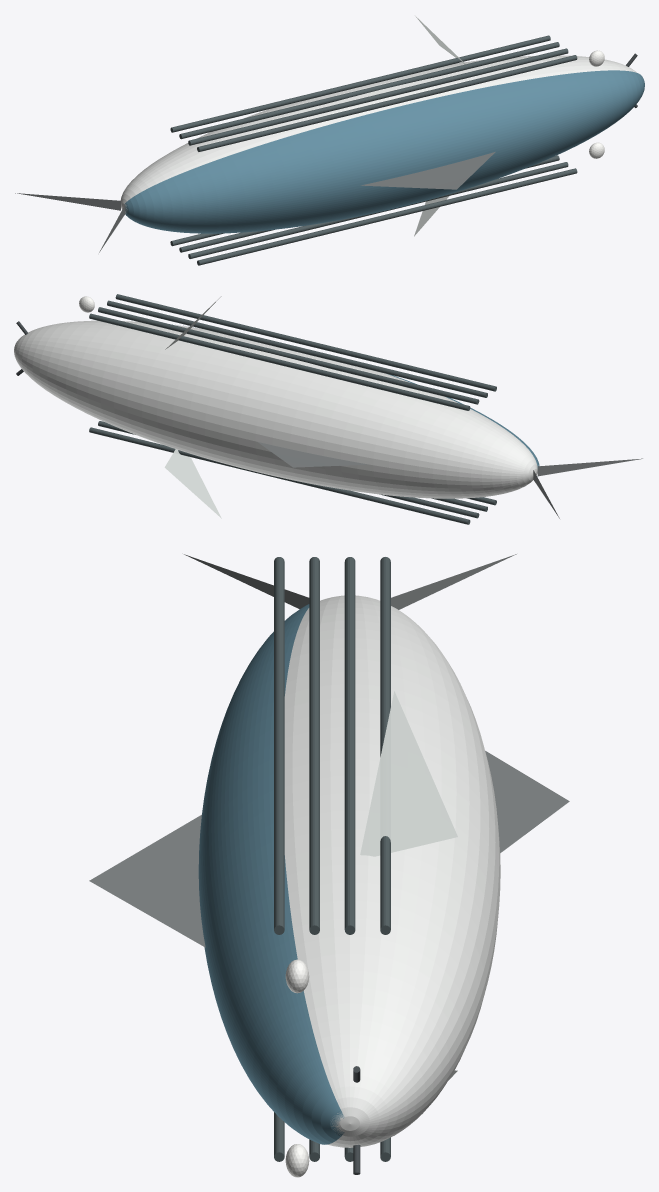
File: striped_bass_rockfish_approx.glb
3 renders of one model, top to bottom at view 1: azimuth 30°, elevation 25°; view 2: azimuth 150°, elevation 25°; view 3: azimuth 270°, elevation 25°, orthographic. The views are drawn at different scales.
Parts seen in each view (by area): view 1: dark_back_overlay, striped_bass_body, horizontal_stripe_6, horizontal_stripe_3, horizontal_stripe_4, horizontal_stripe_7, horizontal_stripe_5, spiny_dorsal_fin, horizontal_stripe_2, forked_tail, horizontal_stripe_1; view 2: striped_bass_body, horizontal_stripe_7, horizontal_stripe_4, horizontal_stripe_6, horizontal_stripe_5, horizontal_stripe, pectoral_fin_right, anal_fin, forked_tail, horizontal_stripe_1; view 3: striped_bass_body, dark_back_overlay, pectoral_fin_left, spiny_dorsal_fin, horizontal_stripe_5, horizontal_stripe_6, horizontal_stripe_7, anal_fin, horizontal_stripe_4, forked_tail.
Part boxes in pixels (bbox=[...]): dark_back_overlay: bbox=[124, 70, 644, 233]; striped_bass_body: bbox=[120, 55, 636, 213]; horizontal_stripe_6: bbox=[188, 48, 568, 145]; horizontal_stripe_3: bbox=[197, 168, 577, 265]; horizontal_stripe_4: bbox=[170, 35, 550, 132]; horizontal_stripe_7: bbox=[197, 55, 577, 151]; horizontal_stripe_5: bbox=[179, 42, 559, 139]; spiny_dorsal_fin: bbox=[361, 152, 495, 189]; horizontal_stripe_2: bbox=[188, 162, 568, 258]; forked_tail: bbox=[15, 193, 125, 252]; horizontal_stripe_1: bbox=[179, 155, 559, 252]; striped_bass_body: bbox=[14, 320, 537, 498]; horizontal_stripe_7: bbox=[115, 294, 496, 391]; horizontal_stripe_4: bbox=[89, 313, 470, 410]; horizontal_stripe_6: bbox=[107, 300, 487, 397]; horizontal_stripe_5: bbox=[98, 307, 479, 404]; horizontal_stripe: bbox=[89, 427, 470, 524]; pectoral_fin_right: bbox=[164, 449, 221, 518]; anal_fin: bbox=[258, 442, 368, 467]; forked_tail: bbox=[533, 458, 642, 518]; horizontal_stripe_1: bbox=[98, 421, 479, 518]; striped_bass_body: bbox=[284, 595, 500, 1147]; dark_back_overlay: bbox=[198, 604, 344, 1144]; pectoral_fin_left: bbox=[360, 691, 457, 856]; spiny_dorsal_fin: bbox=[89, 814, 205, 947]; horizontal_stripe_5: bbox=[344, 557, 355, 934]; horizontal_stripe_6: bbox=[309, 557, 319, 934]; horizontal_stripe_7: bbox=[274, 557, 284, 934]; anal_fin: bbox=[485, 751, 569, 852]; horizontal_stripe_4: bbox=[380, 557, 390, 934]; forked_tail: bbox=[184, 554, 516, 609].
Size of the model in its own units: 3.05 by 1.11 by 1.09.
